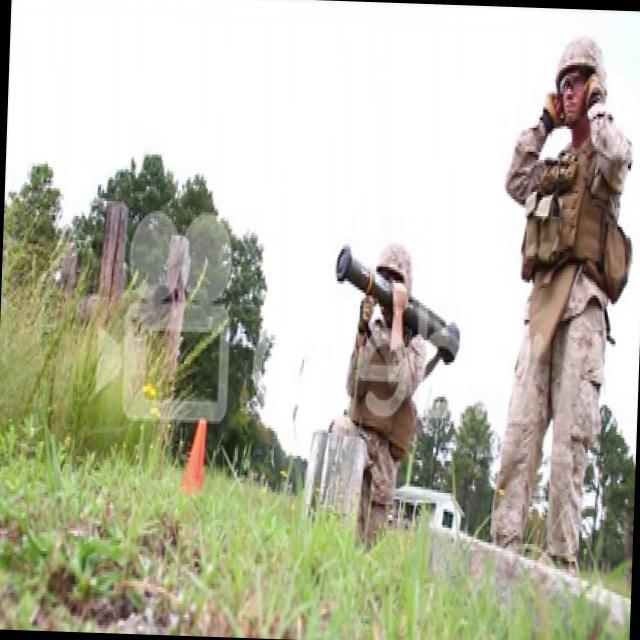rocket: (330, 244, 466, 366)
